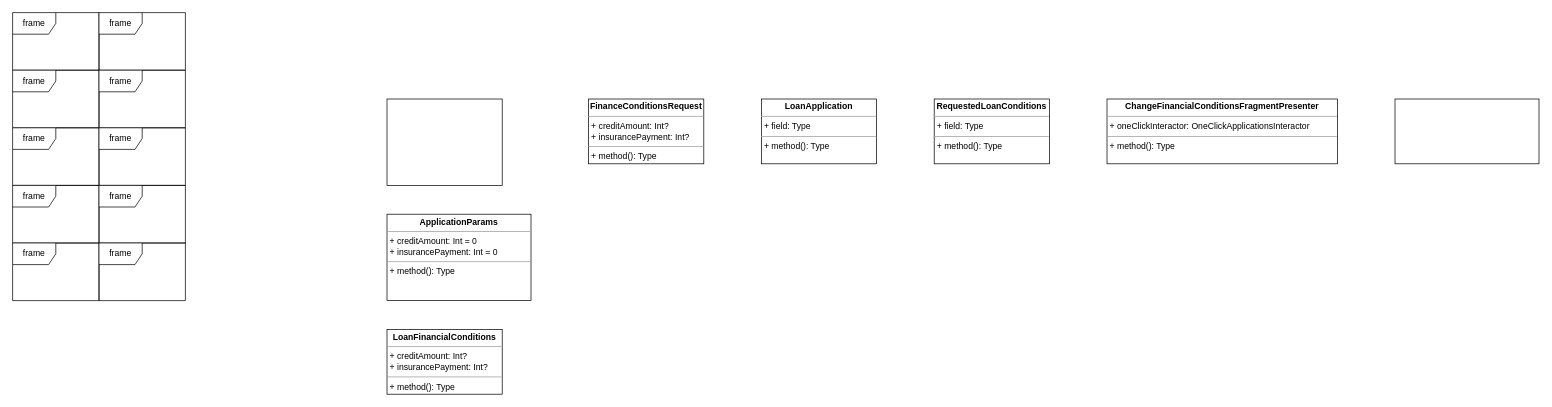
This 1552x407 diagram has some shape labels left out. The shapes that lost their labels are listed below. From the top down, each one's centre as x and y in pixels, then its label:
At pixel 444 141: "OneClickParamsObj + creditAmount: Int? + insurancePayment: Int? + method(): Type".
At pixel 1466 131: "BaseLoanCalculatorBindModel + field: Type + method(): Type".
